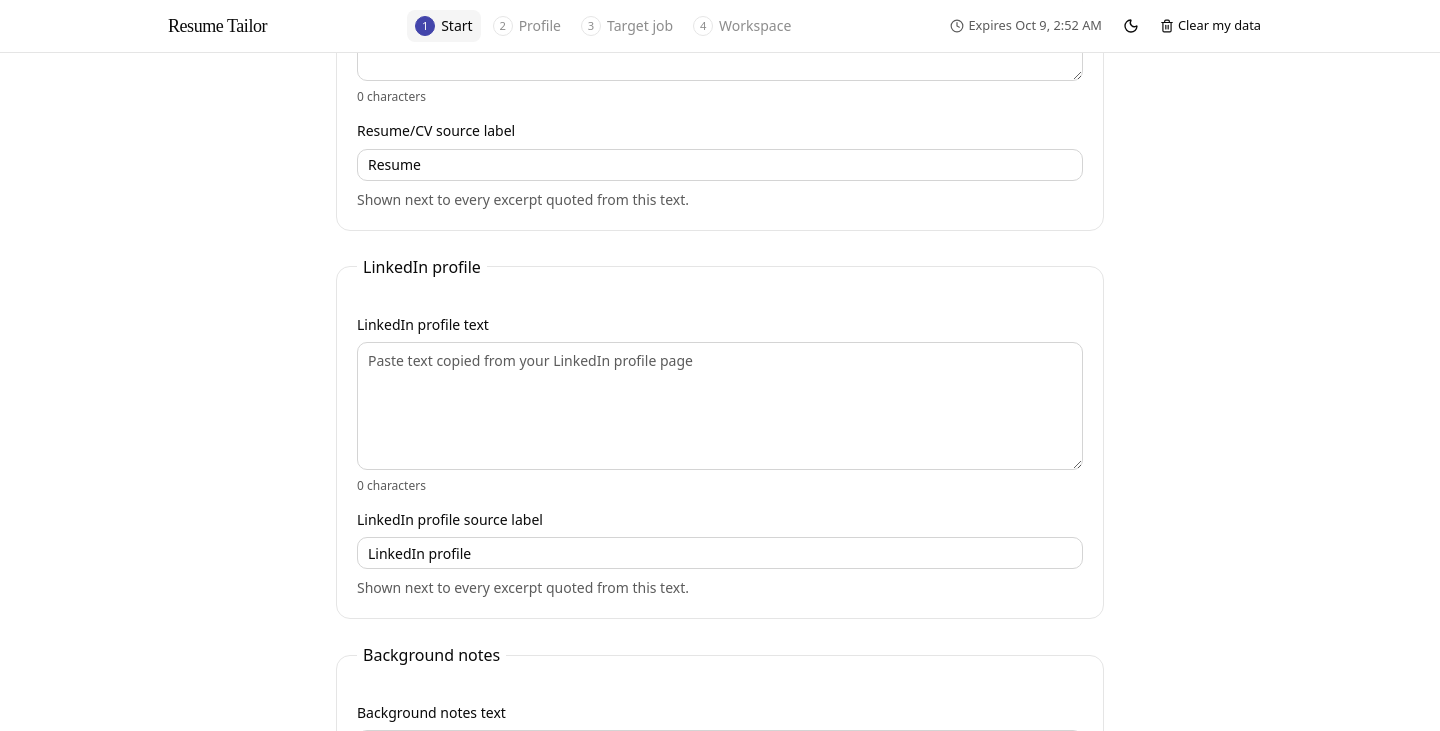
StartPage › shows API field errors next to the field they belong to
(page scrolled)
Type "???" into the text box labelled "LinkedIn profile text" at (720, 406), box [357, 342, 1083, 470]
(page scrolled)
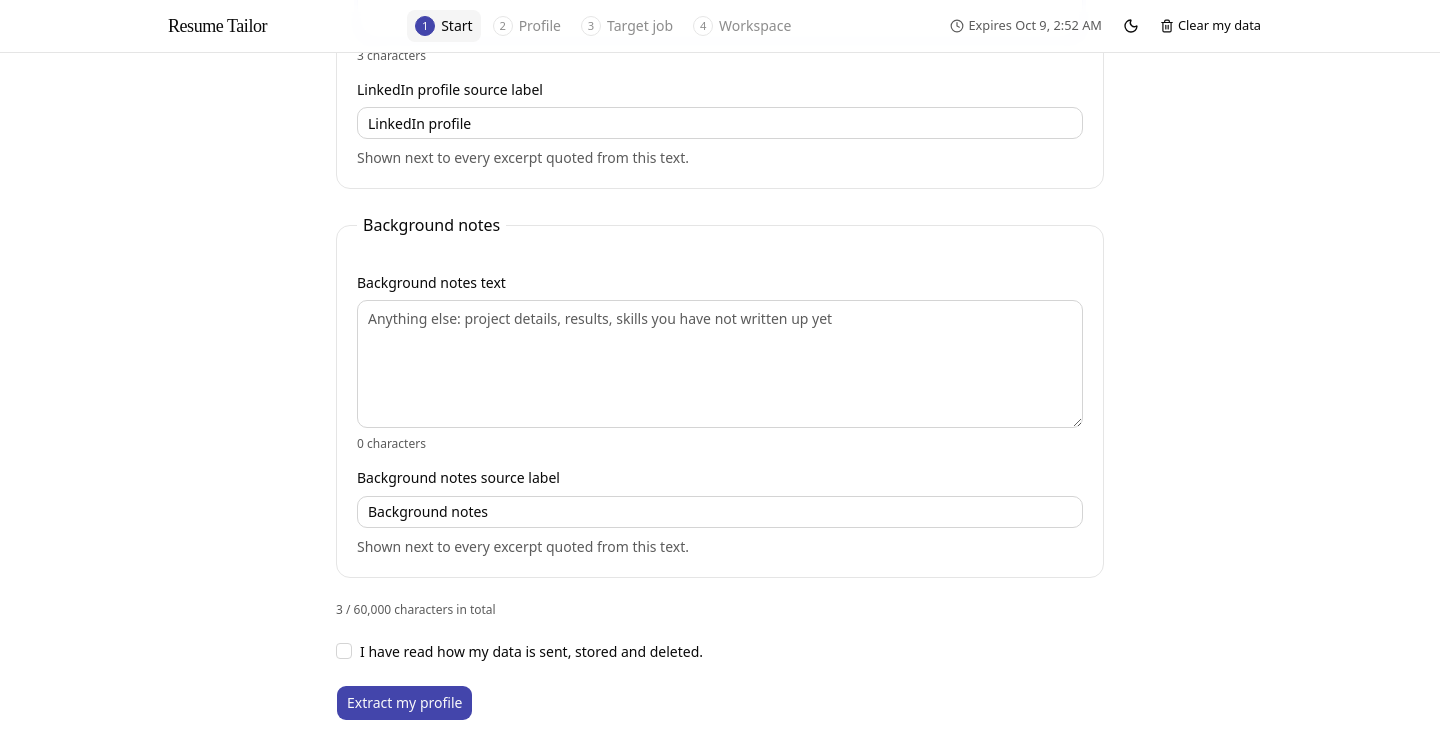
Click the checkbox named "I have read how my data is sent, stored and deleted." at (344, 651), box [336, 643, 352, 659]
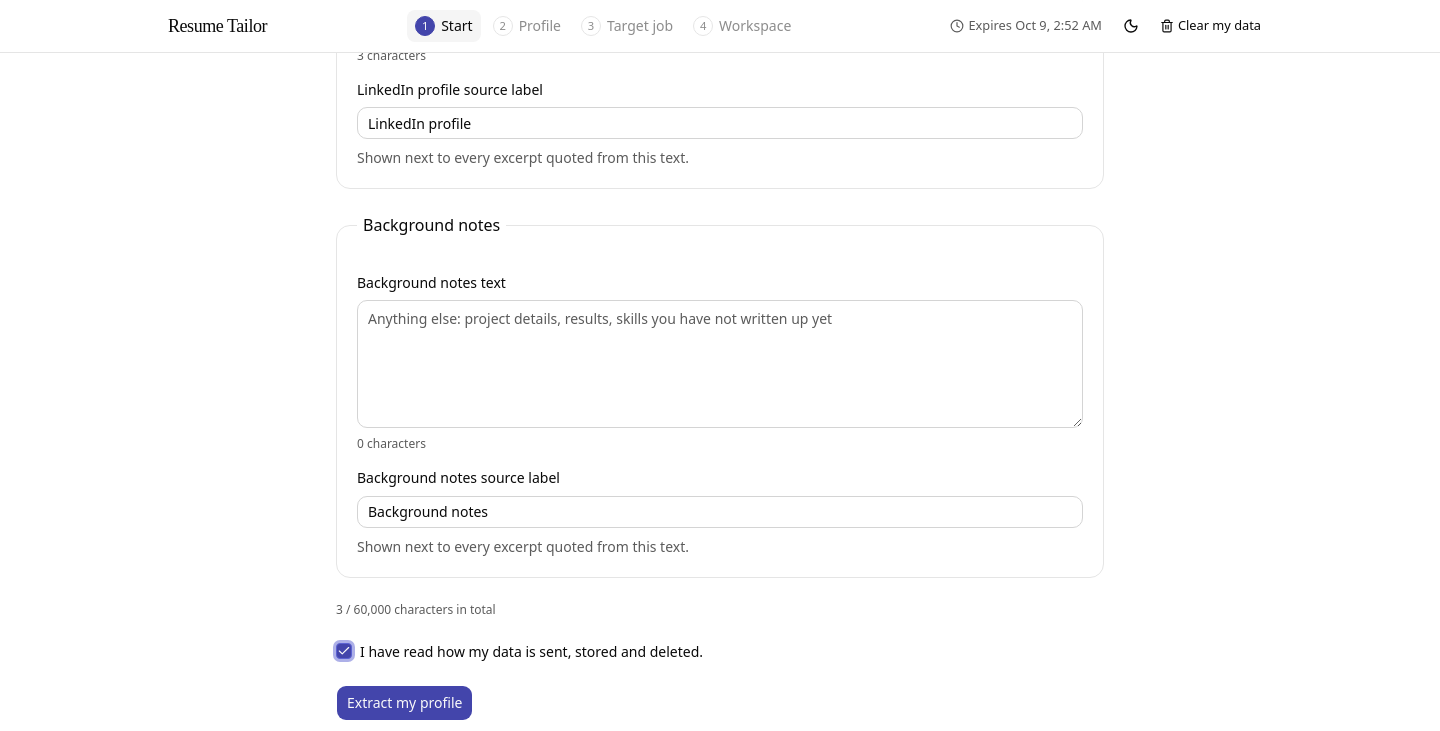
Click the button "Extract my profile" at (405, 703), box [336, 685, 473, 721]
(page scrolled)
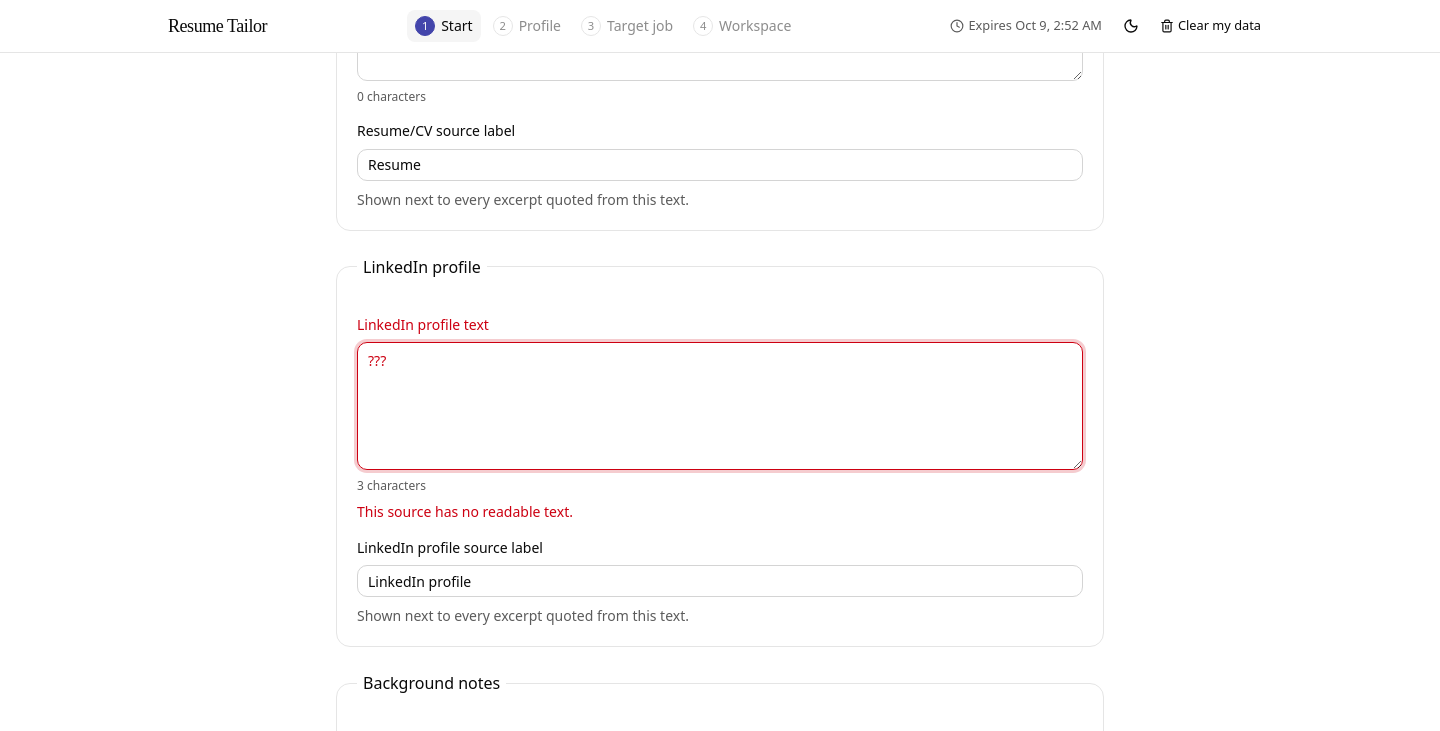
Check: the text "This source has no readable text." is shown, box [357, 502, 573, 521]
